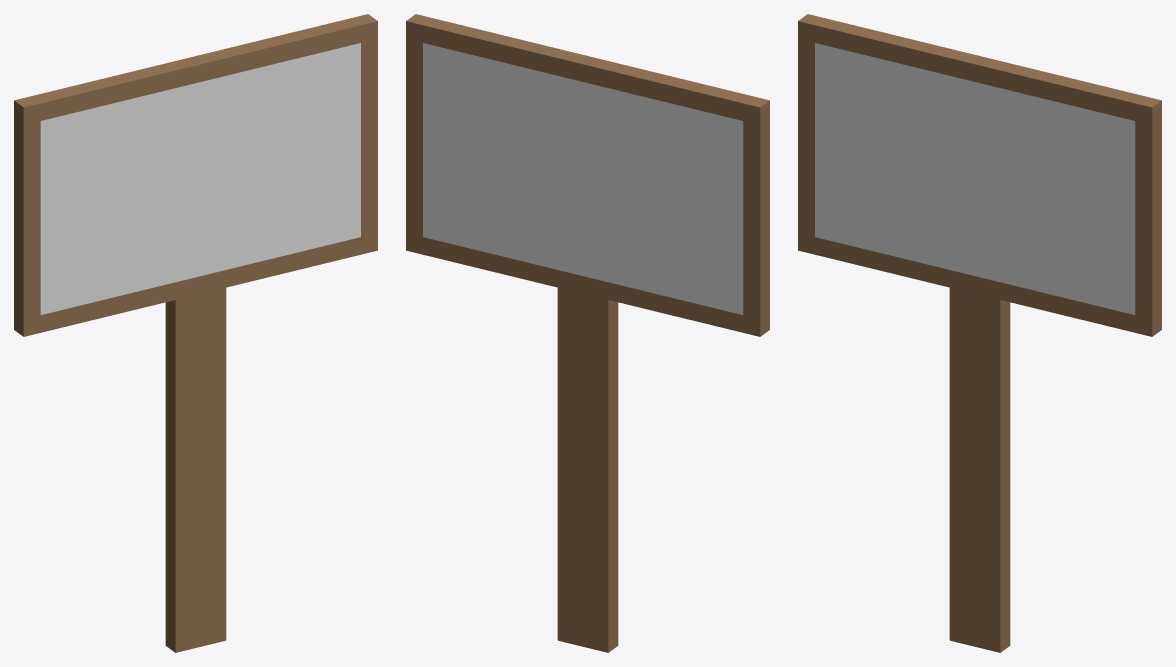
The model's file is kanban.obj.
3 renders of one model, left to right at view 1: azimuth 30°, elevation 25°; view 2: azimuth 150°, elevation 25°; view 3: azimuth 330°, elevation 25°, orthographic.
Size of the model in its own units: 2.1 by 3.3 by 0.1.
1 material, 1 textured.
